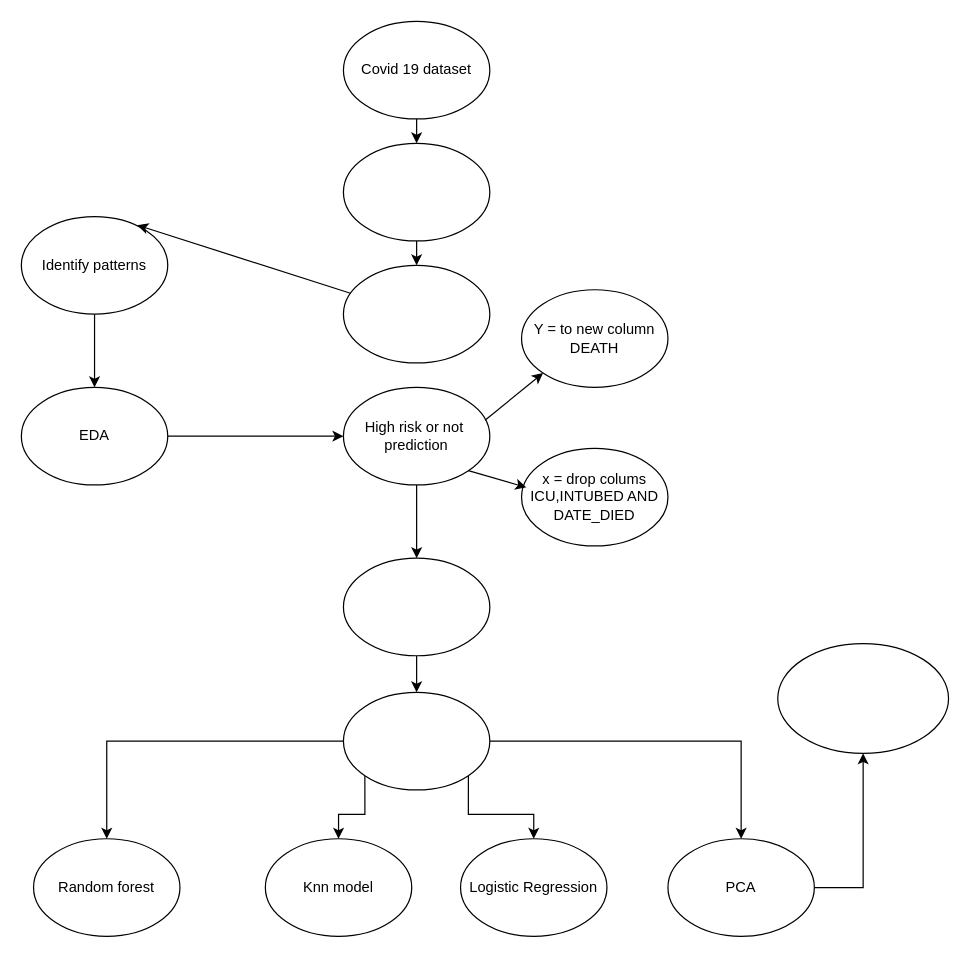
Some shapes in this 970 by 958 pixel diagram are drawn without their labels. The centre of each missing label's shape, as x and y in pixels:
"Describe data and data cleanning" belongs at (x=416, y=191).
"Implementing models" belongs at (x=416, y=740).
"Implementing models: LR,LDA,KNN,CART,NB" belongs at (x=863, y=697).
"Normalazing data or scaling data?" belongs at (x=416, y=606).
"What we want predict?" belongs at (x=416, y=313).
